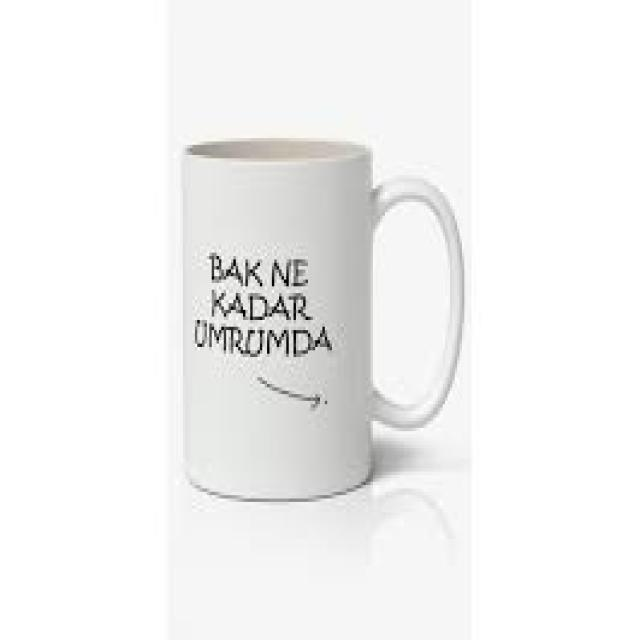taza: (180, 134, 464, 506)
